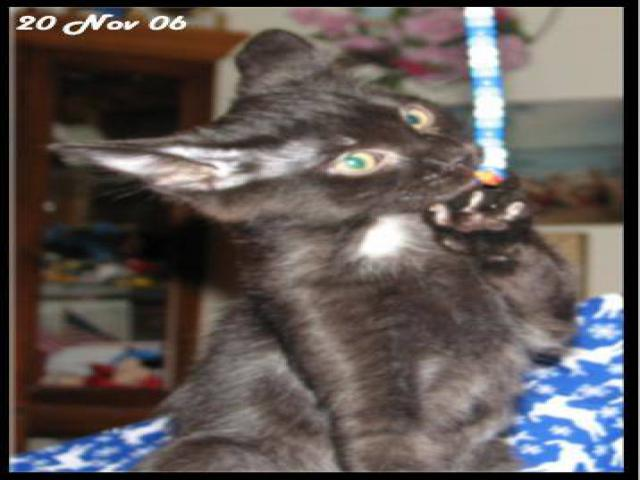cat: (51, 36, 584, 472)
